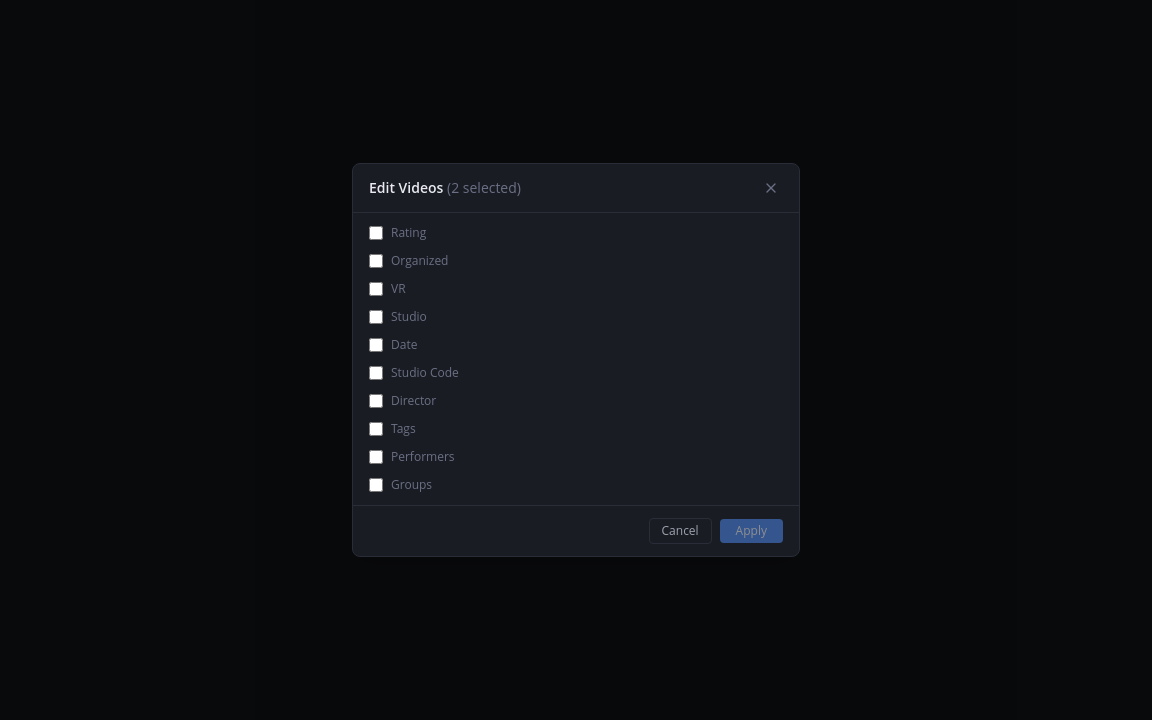
it: BulkEditDialog › keeps Apply disabled while a ticked rating has no value, but not for a nullable field
The width and height of the screenshot is (1152, 720).
Click the checkbox labelled "Rating" at coordinates (376, 233), box [369,226,383,240]
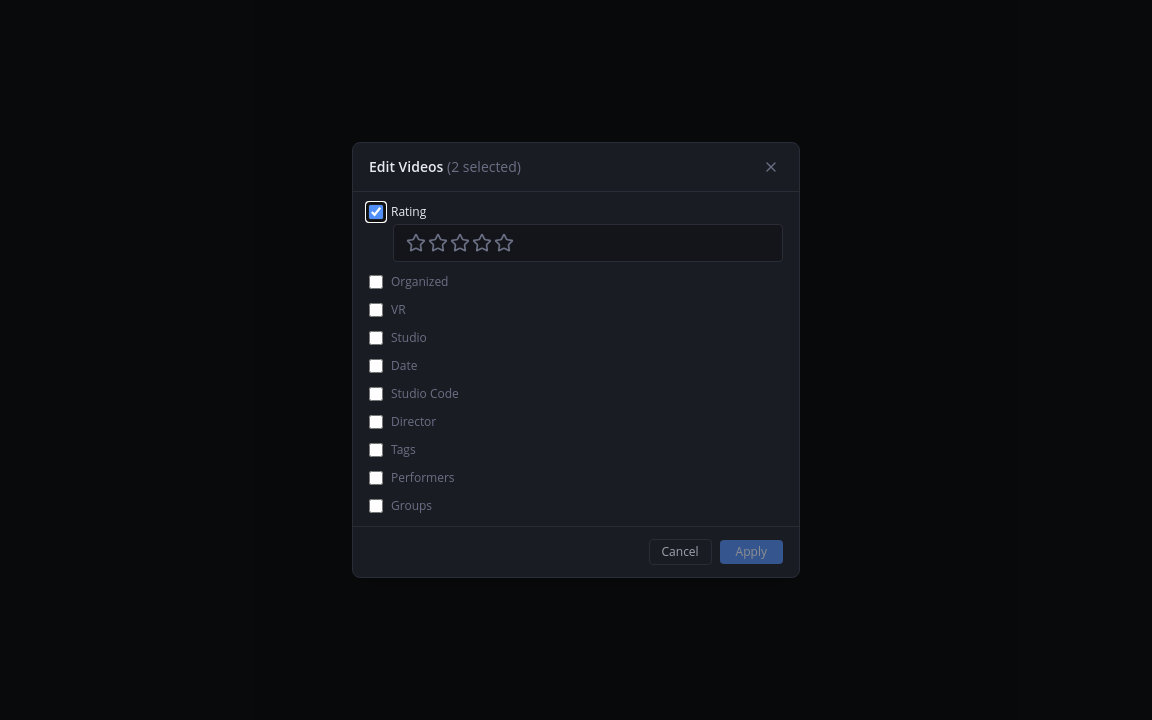
Expected: the button "Apply" is disabled, [720,540,783,564]
Click the checkbox labelled "Studio" at coordinates (376, 338), box [369,331,383,345]
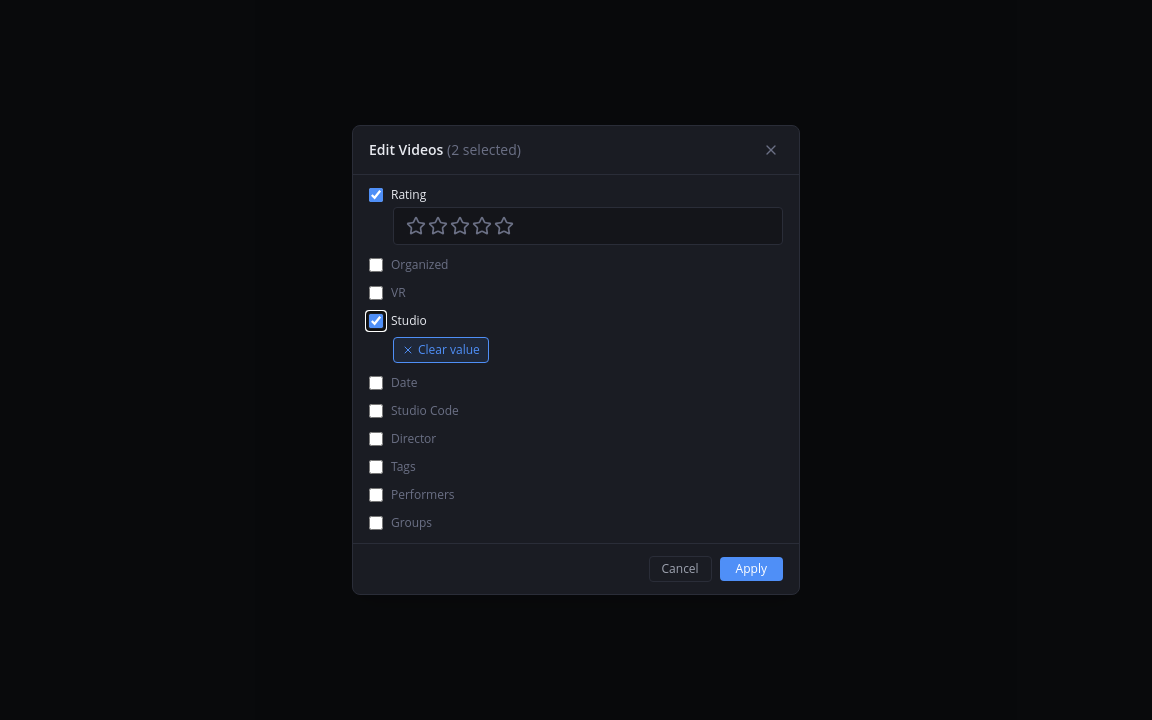
Expected: the button "Apply" is enabled, [720,557,783,581]
